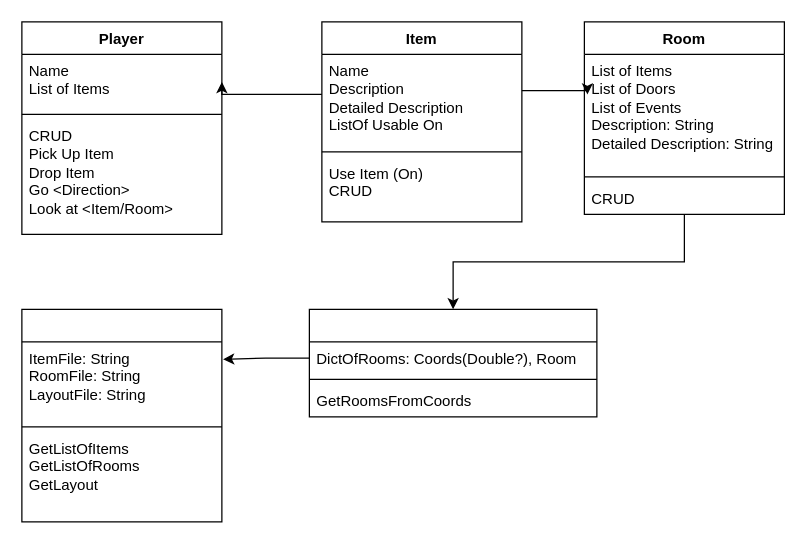
Some shapes in this 806 by 548 pixel diagram are drawn without their labels. The shapes that lost their labels are listed below. From the top down, each one's box as (x1, y1, x2, y2) in pixels, then its label:
(308, 308, 597, 417): Layout
(21, 308, 222, 522): FIleHandler
